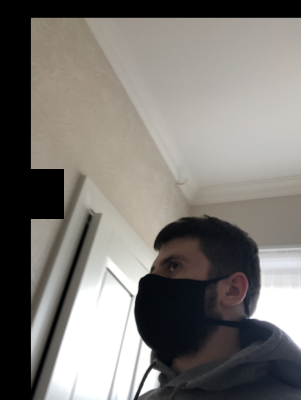with_mask: (133, 248, 211, 355)
